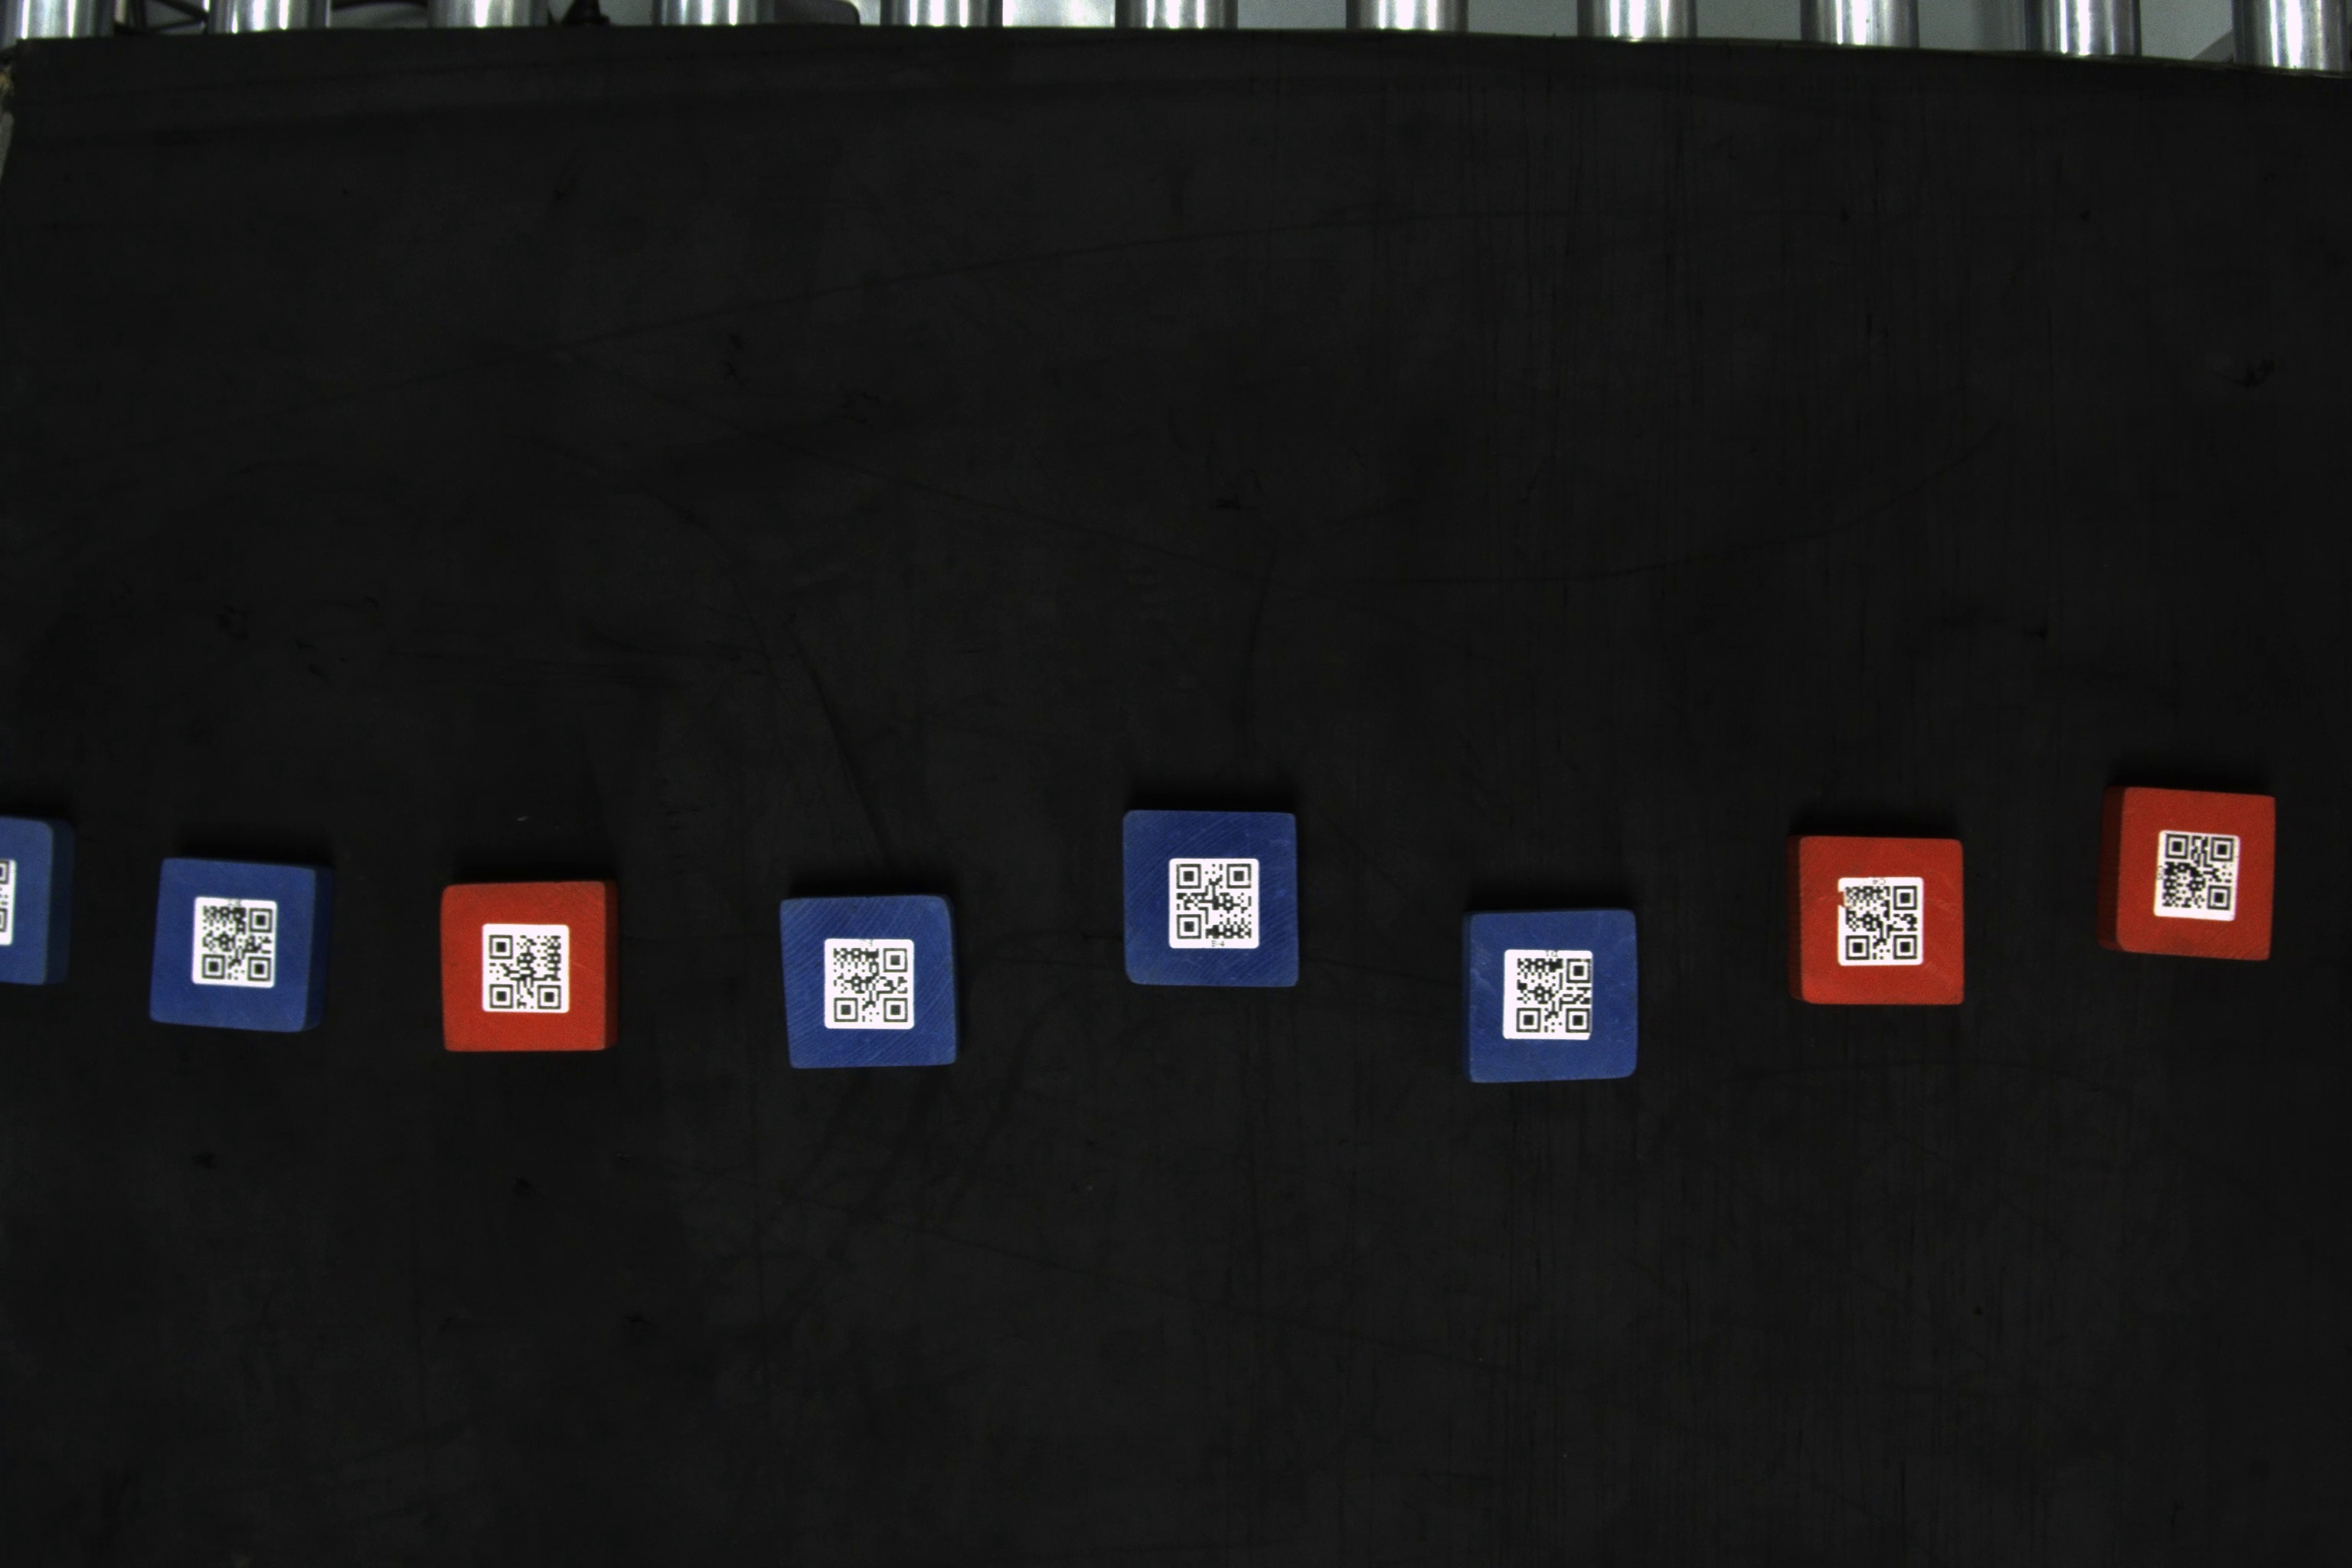wood: (1115, 805, 1307, 992), (1778, 826, 1972, 1006), (147, 856, 332, 1041), (2096, 780, 2285, 962), (773, 894, 964, 1073), (439, 877, 628, 1055), (1458, 906, 1643, 1087), (0, 808, 80, 990)
